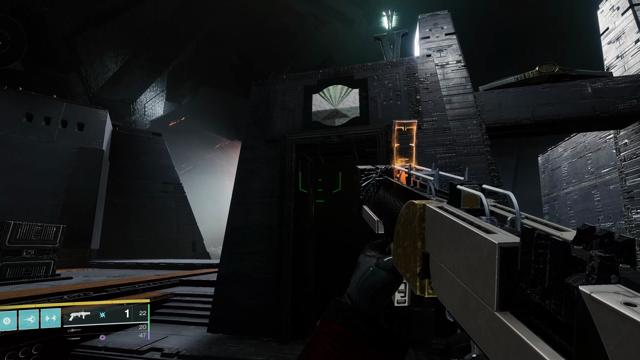commune: (312, 85, 359, 126)
